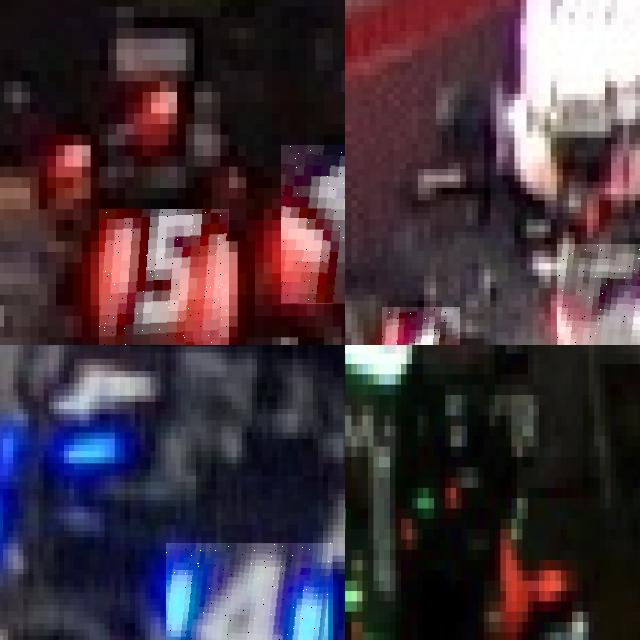B4: (165, 543, 333, 640)
R4: (556, 244, 640, 345), (381, 307, 460, 345)
R5: (99, 209, 228, 345), (280, 145, 345, 305)
